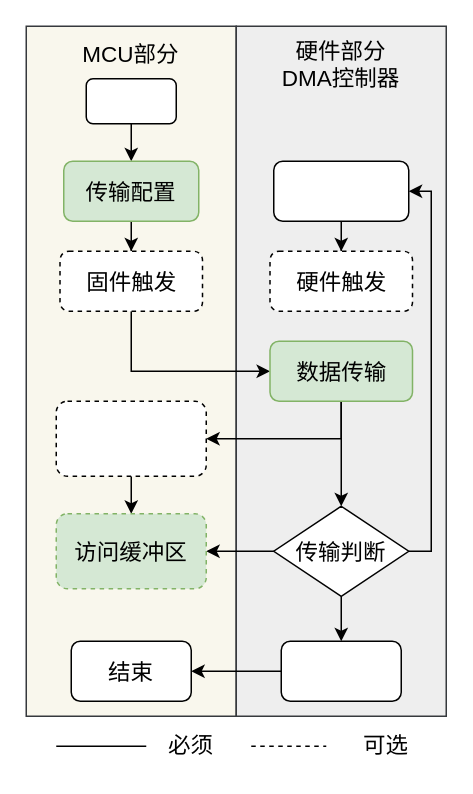
This 473x794 diagram has some shape labels left out. The shapes that lost their labels are listed below. From the top down, each one's centre as x and y in pixels, then its label:
At (x=130, y=100): "开始".
At (x=340, y=190): "重载配置".
At (x=130, y=438): "中断/事件".
At (x=340, y=670): "非法配置".
